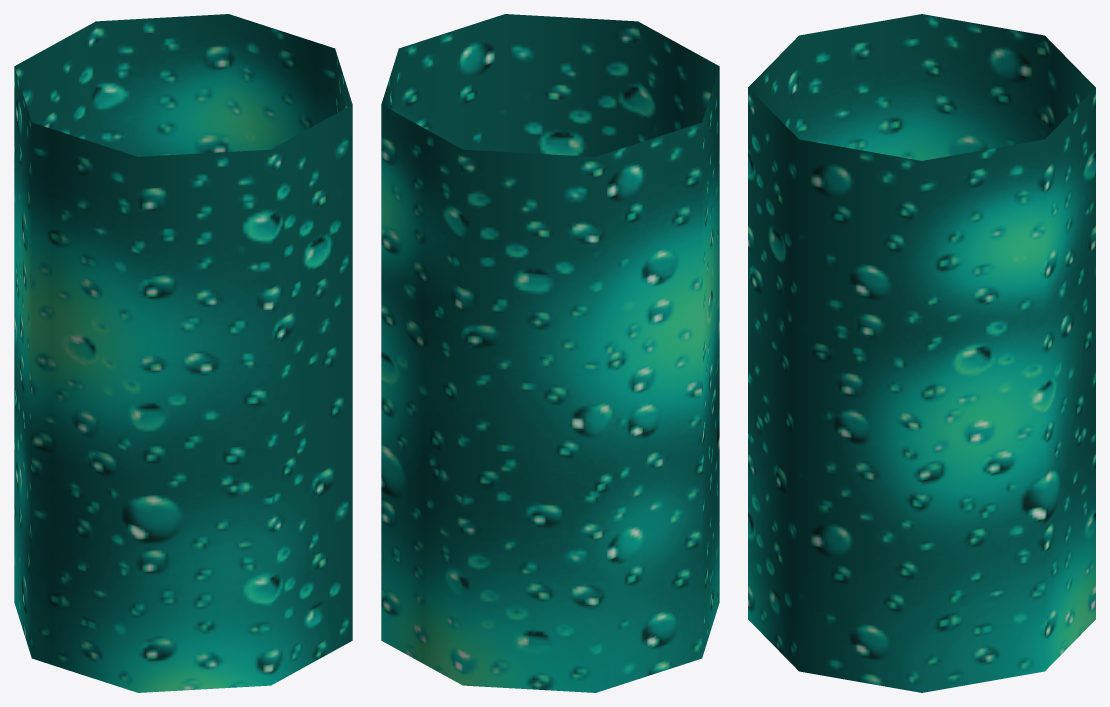
The model's file is mpr_tube_small.FBX.
3 views of the same model, side by side, from view 1: azimuth 30°, elevation 25°; view 2: azimuth 150°, elevation 25°; view 3: azimuth 270°, elevation 25° (orthographic).
Visible parts, largest first — view 1: mpr_tube_small; view 2: mpr_tube_small; view 3: mpr_tube_small.
Part boxes in pixels (<box>): mpr_tube_small: <box>14,14,352,692</box>; mpr_tube_small: <box>381,14,719,692</box>; mpr_tube_small: <box>748,14,1095,692</box>.
Bounding box in the file's own units: 145 × 245 × 145.
1 material, 1 textured.
